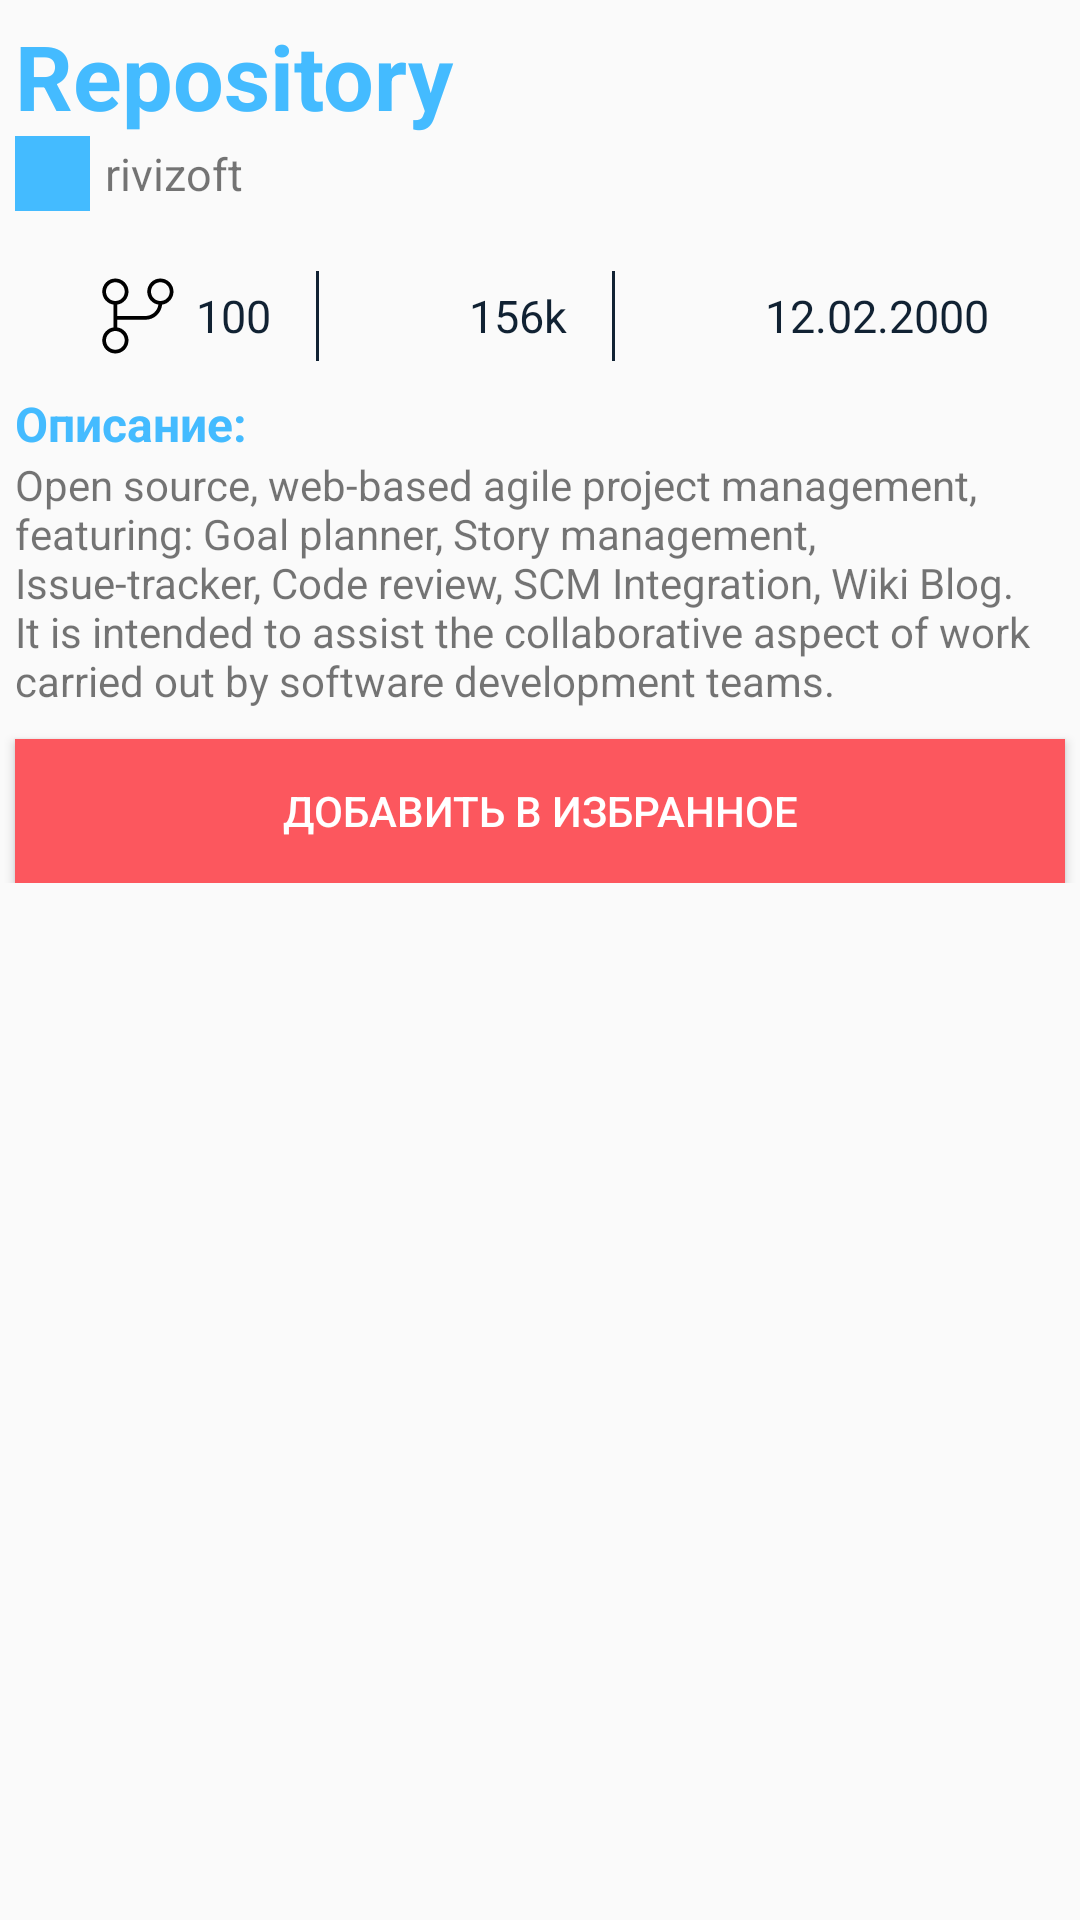

Locate icon controls on the screen. Image size 1080px x 1920px, boxes as (x1, y1, x2, y2).
fork: (102, 278, 174, 354)
